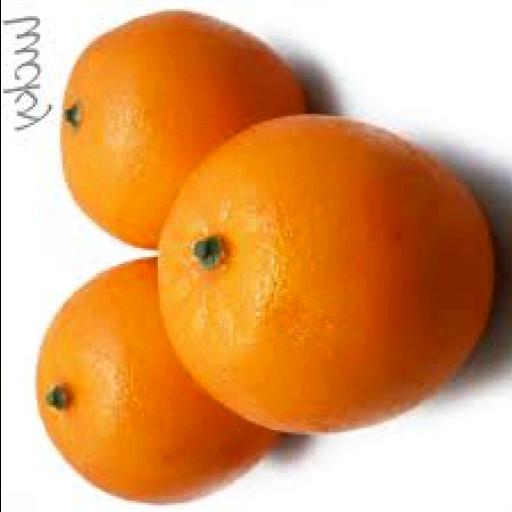orange: (159, 117, 494, 432), (38, 260, 278, 502), (63, 12, 305, 248)
